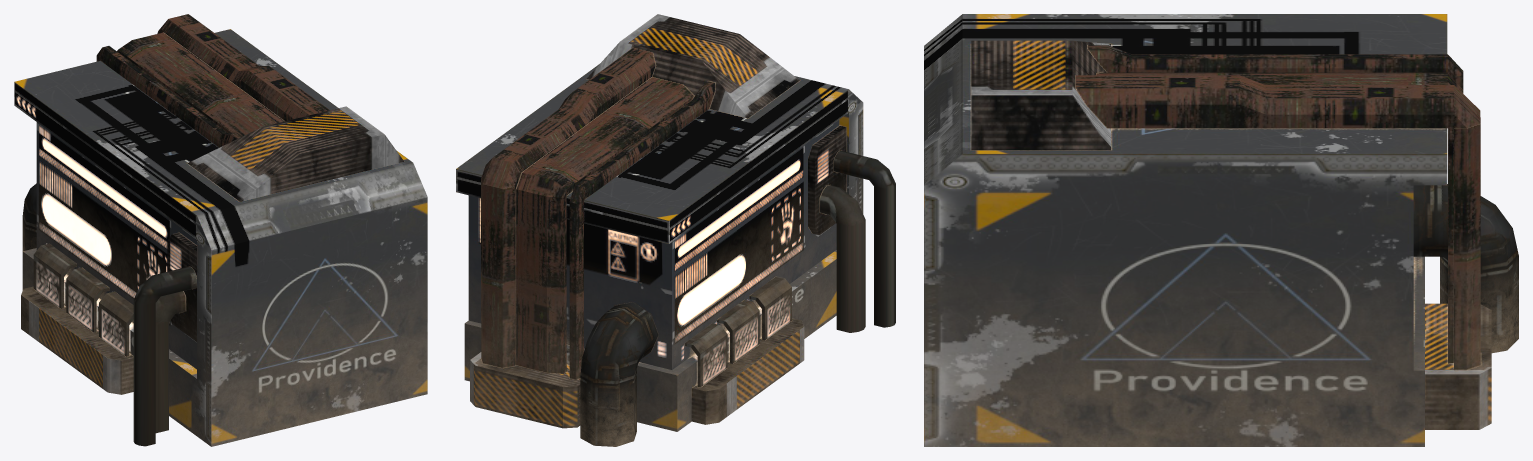
File: Home3 test.fbx
The picture shows the model from 3 angles, left to right: view 1: azimuth 30°, elevation 25°; view 2: azimuth 150°, elevation 25°; view 3: azimuth 270°, elevation 25°; orthographic projection. The views are drawn at different scales.
Visible parts, largest first — view 1: Home3 test; view 2: Home3 test; view 3: Home3 test.
Part boxes in pixels (x1,y1,x2,y2): Home3 test: (14,14,427,446); Home3 test: (456,14,895,446); Home3 test: (924,14,1518,446).
Bounding box in the file's own units: 8.17 × 7.3 × 11.72.
